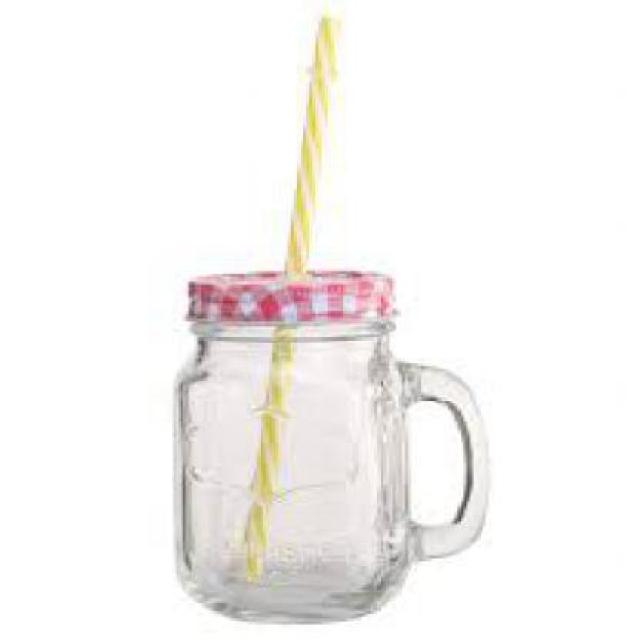GLASS: (176, 316, 482, 619)
METAL: (186, 271, 389, 318)
